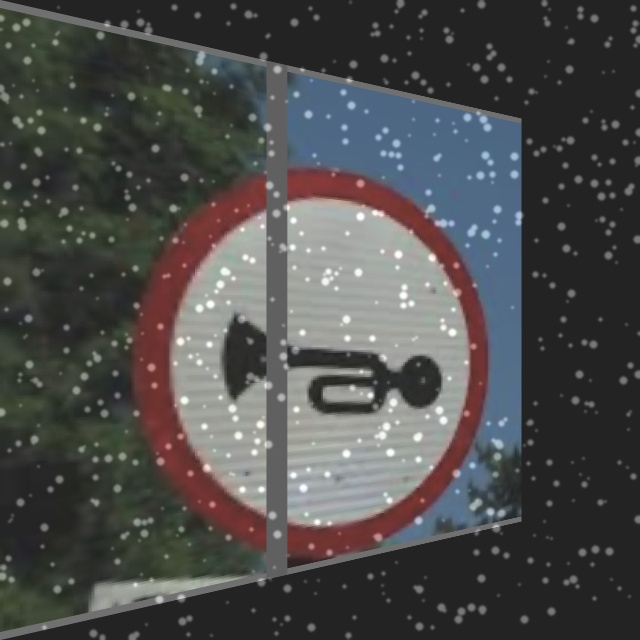Compulsory_Sound_Horn: (146, 153, 479, 561)
